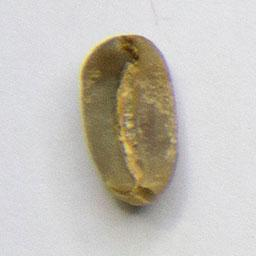longberry: (76, 31, 183, 207)
